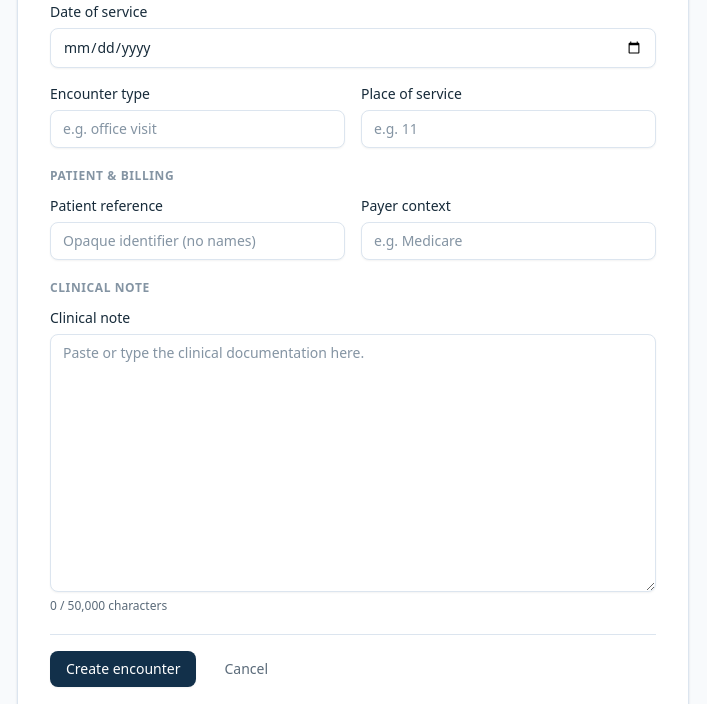
Scenario: shows validation errors for an empty submit
The width and height of the screenshot is (707, 704).
(page scrolled)
Click the button "Create encounter" at (123, 669), box [50, 651, 196, 687]
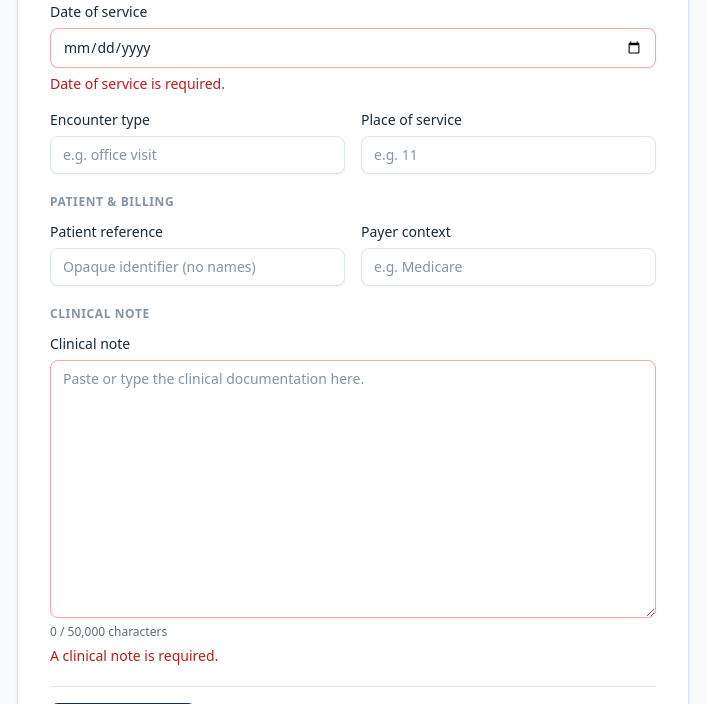
Now the text "Date of service is required." is shown, box [50, 74, 225, 93]
Now the text "A clinical note is required." is shown, box [50, 646, 218, 665]
